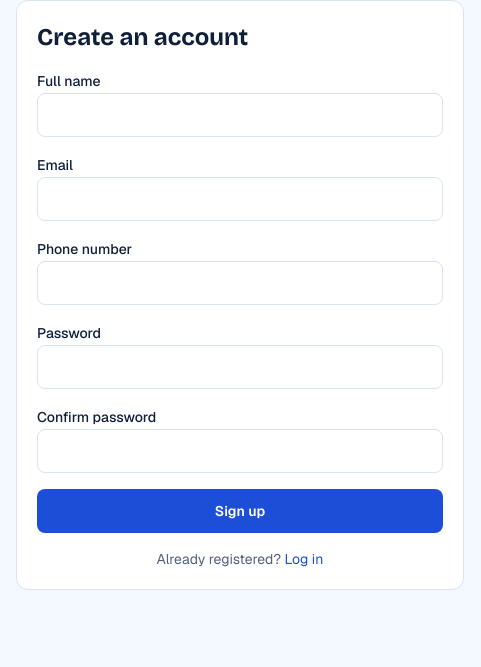
Test case: Sign up form › rejects an invalid phone number
The image size is (481, 667).
Type "Test User" into the field labelled "Full name" at {"x": 240, "y": 115}, box [37,93,443,137]
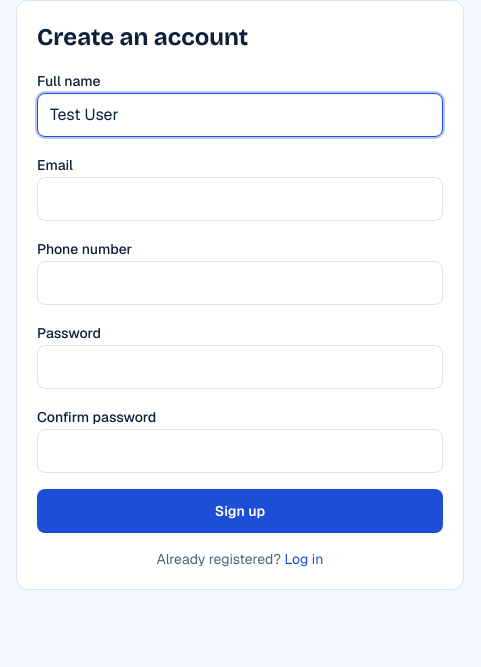
Type "t@test.dev" into the field labelled "Email" at {"x": 240, "y": 199}, box [37,177,443,221]
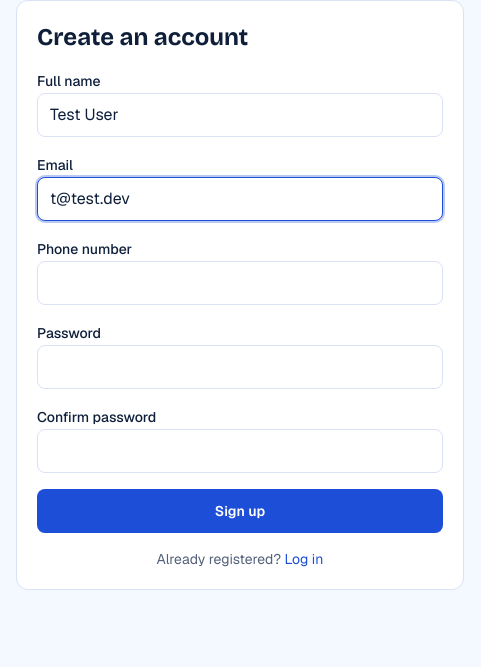
Type "abc" into the field labelled "Phone number" at {"x": 240, "y": 283}, box [37,261,443,305]
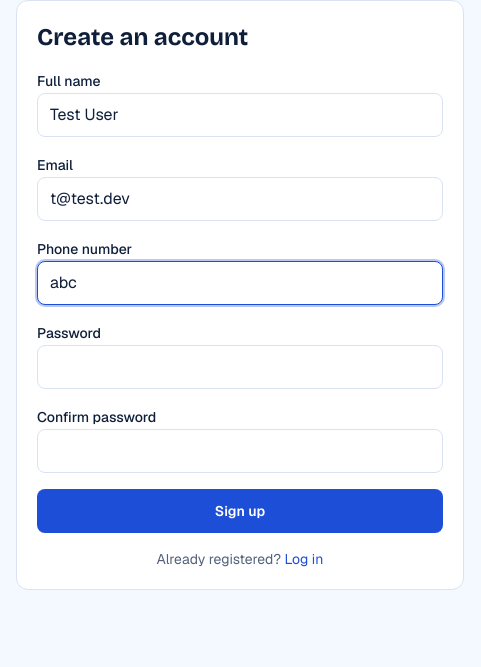
Type "secret1" into the password field labelled "Password" at {"x": 240, "y": 367}, box [37,345,443,389]
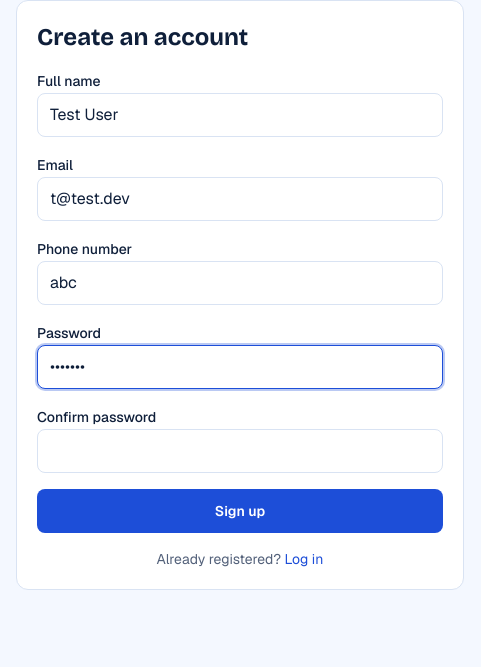
Type "secret1" into the password field labelled "Confirm password" at {"x": 240, "y": 451}, box [37,429,443,473]
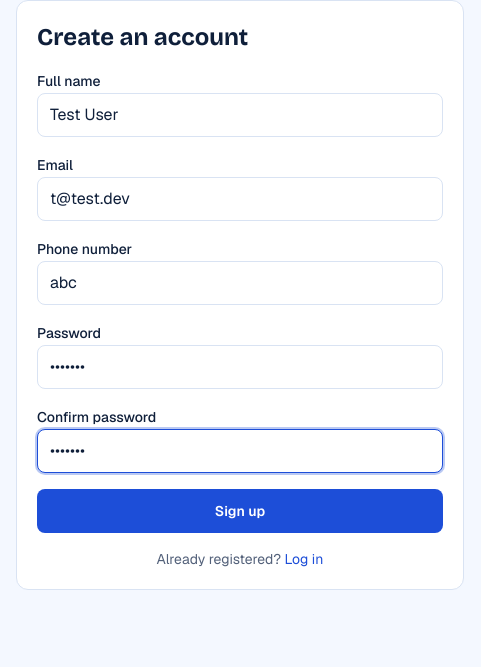
Click the button "Sign up" at {"x": 240, "y": 511}, box [37,489,443,533]
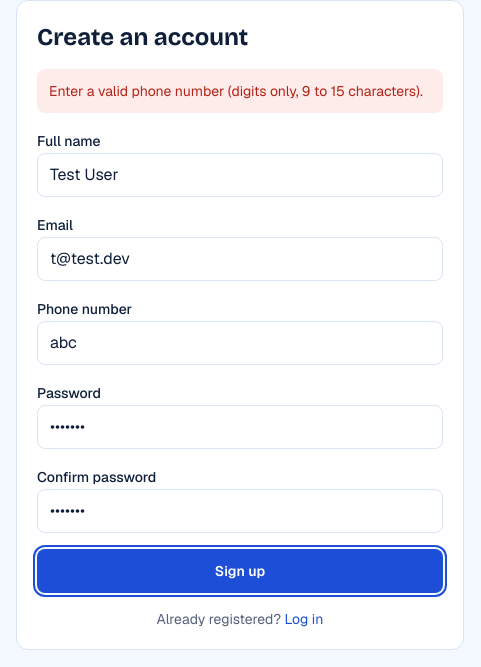
Expected: the message shows "valid phone number", [49,82,423,100]
